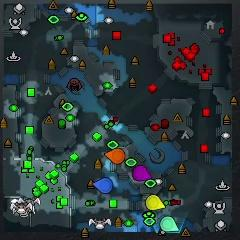p1: (93, 177, 113, 194)
p2: (161, 216, 179, 231)
p3: (133, 165, 151, 182)
p4: (147, 195, 165, 210)
p5: (105, 147, 125, 165)
